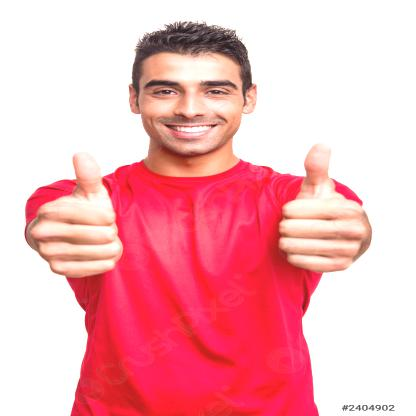Thumbs up: (20, 148, 132, 276), (290, 140, 355, 278)
